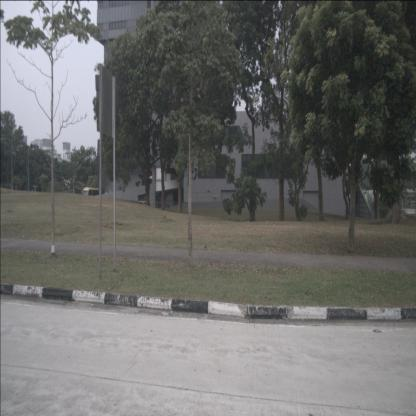vehicle-bus-rigid: (82, 187, 106, 205)
